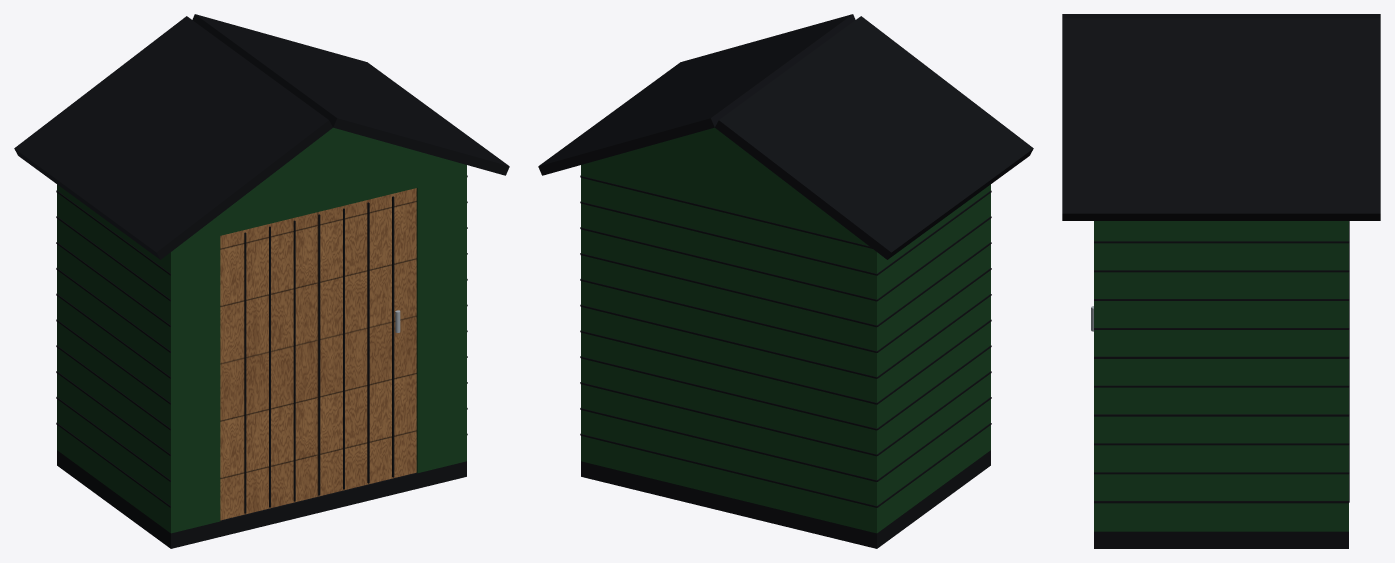
The model's file is Szerszamtarolo.obj.
3 renders of one model, left to right at view 1: azimuth 30°, elevation 25°; view 2: azimuth 150°, elevation 25°; view 3: azimuth 270°, elevation 25°, orthographic. The views are drawn at different scales.
Bounding box in the file's own units: 2.15 × 2.35 × 1.5.
Materials: 4 (1 with a texture image).
